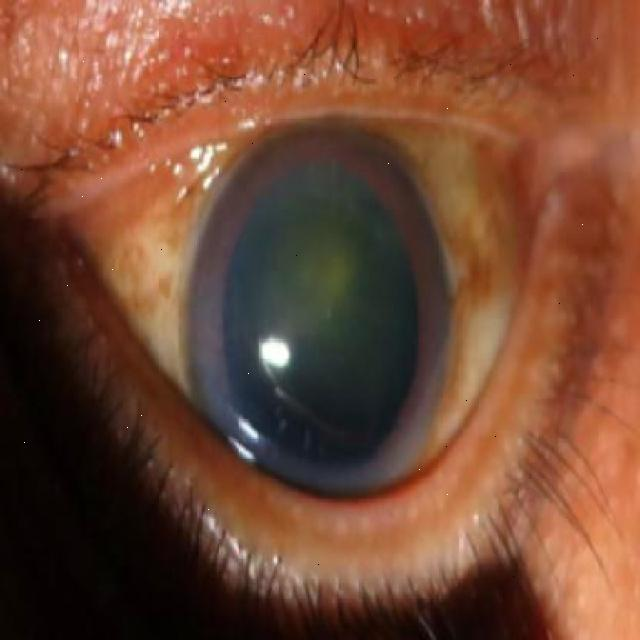Cataract: (182, 113, 453, 509)
